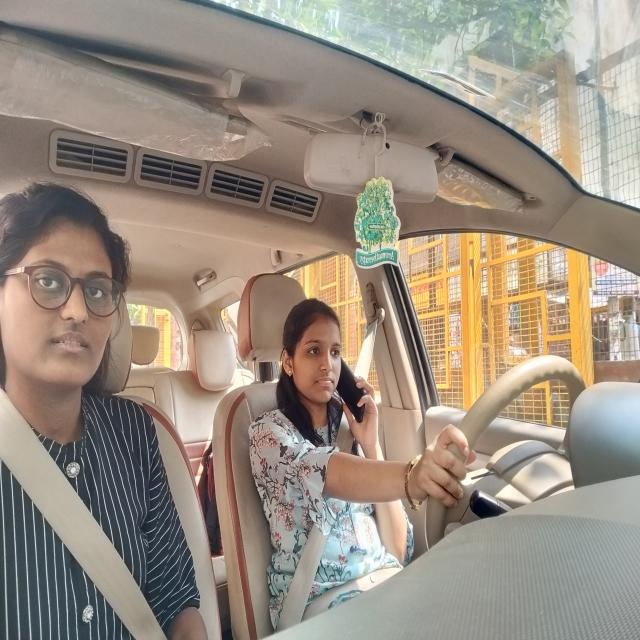mobile: (342, 369, 367, 434)
person: (3, 200, 119, 401), (283, 303, 348, 405)
